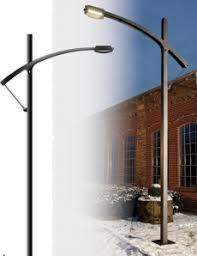Animal: (93, 3, 188, 252), (4, 25, 111, 243)
